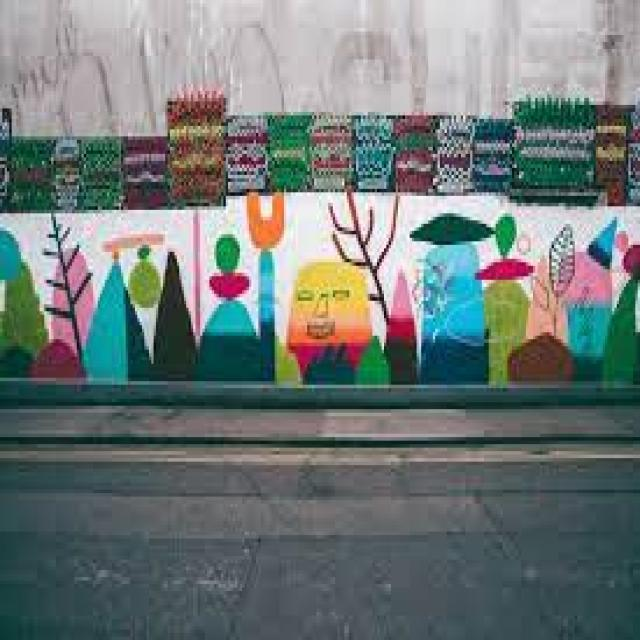-: (0, 191, 640, 387), (0, 84, 640, 203)
